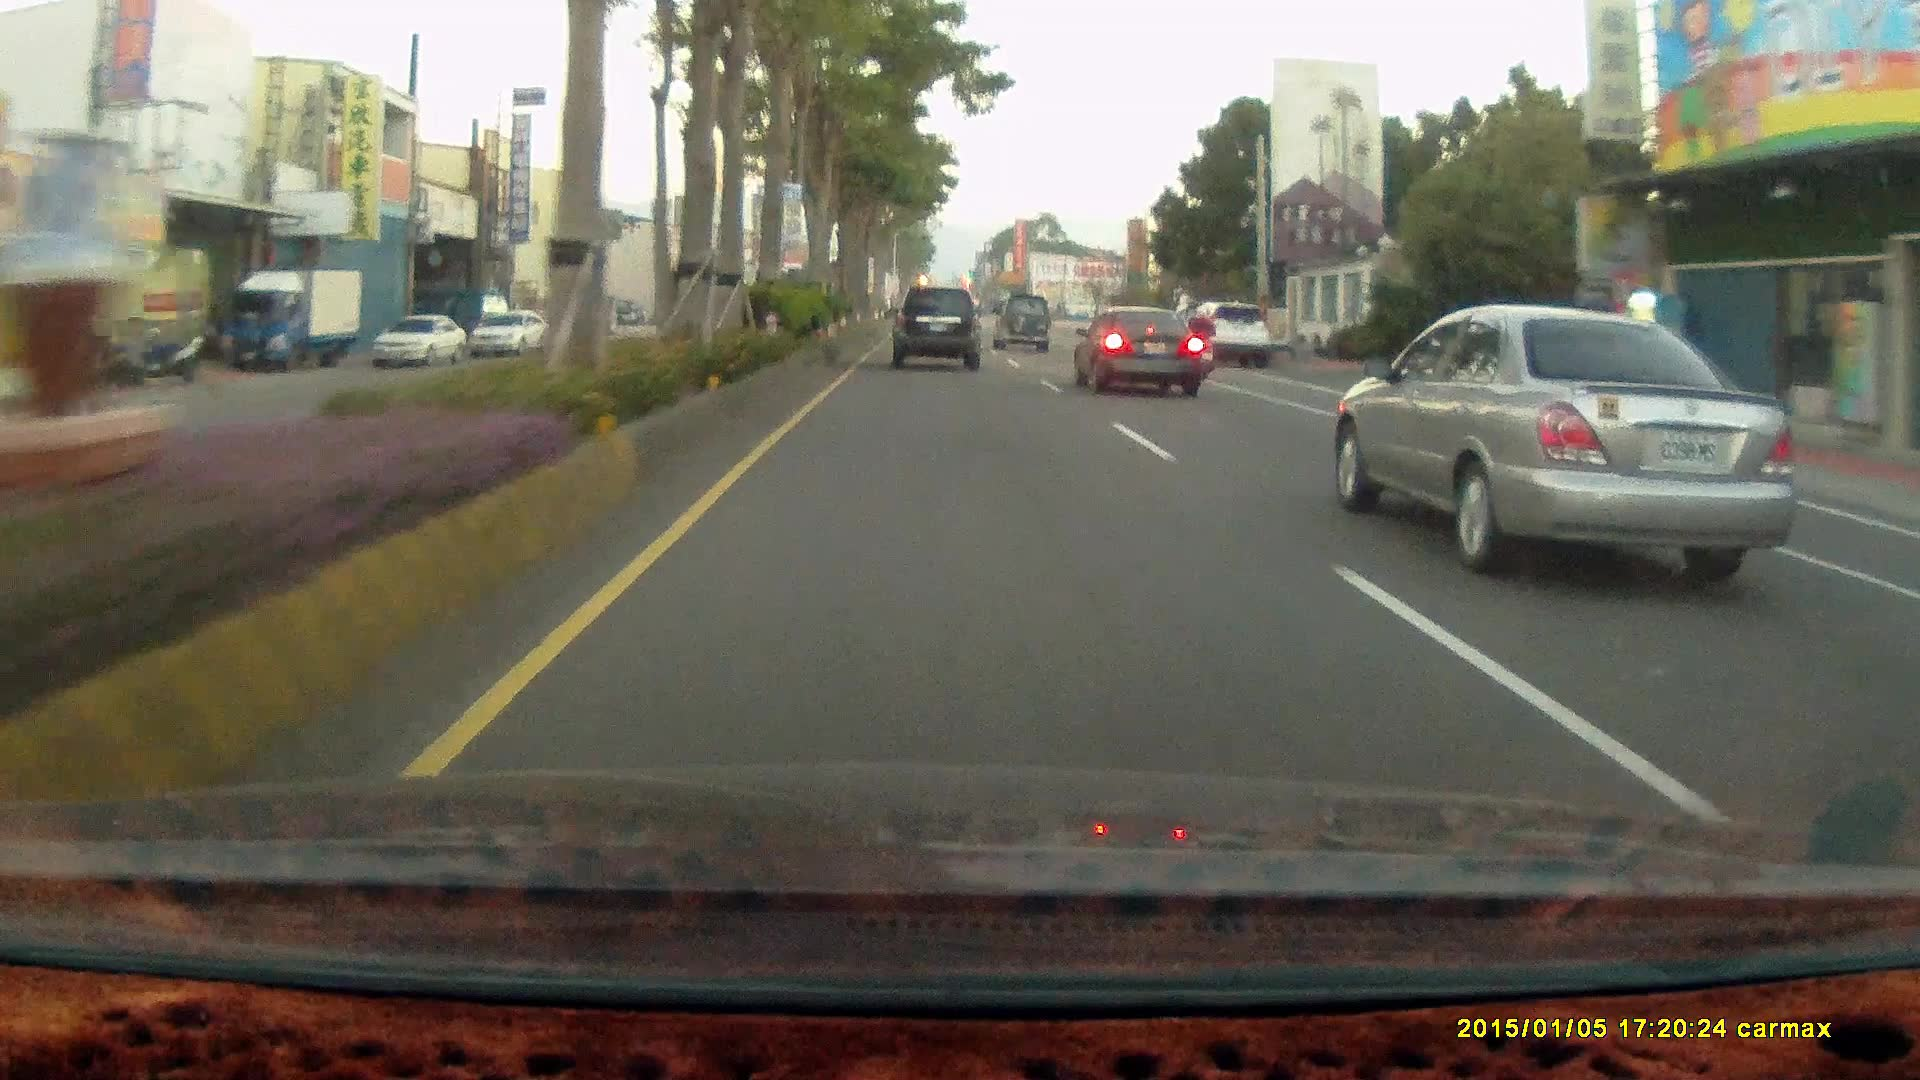rider: (1180, 299, 1221, 376)
vehicle: (1322, 298, 1795, 576), (217, 269, 368, 373), (216, 268, 364, 372), (1071, 303, 1209, 396), (1071, 302, 1205, 395), (888, 280, 987, 374), (889, 284, 978, 368), (1183, 300, 1271, 364), (375, 310, 468, 369), (373, 310, 465, 369), (1194, 301, 1273, 367), (471, 310, 552, 359), (991, 292, 1053, 354), (991, 293, 1051, 352)
